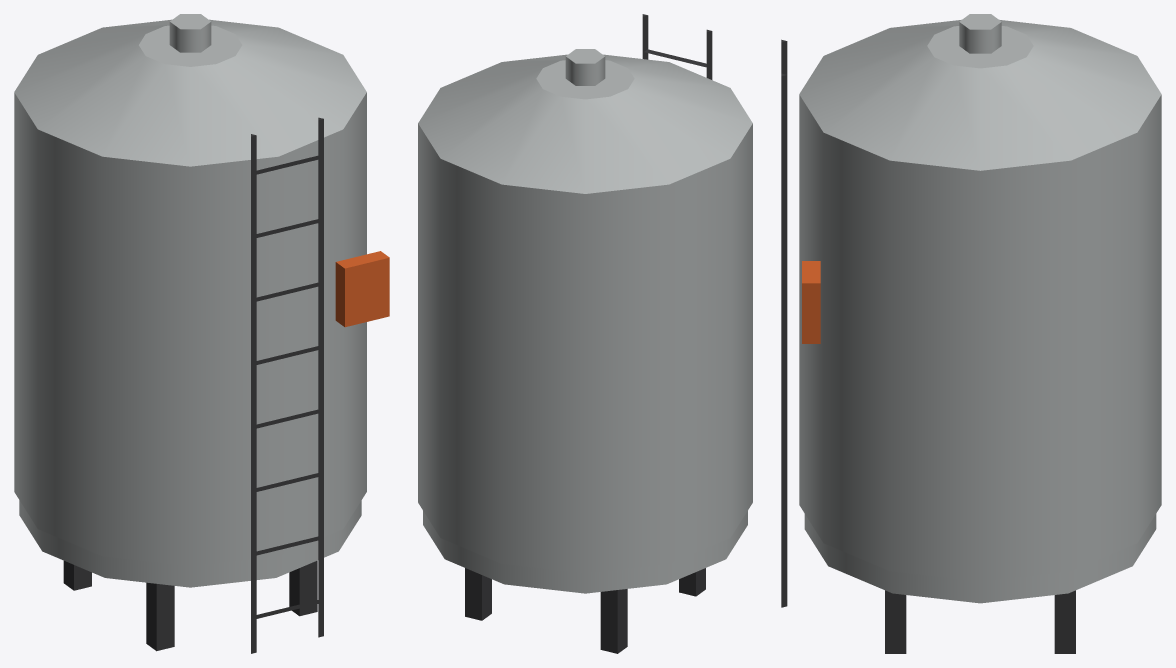
Rendered from storage_tank.glb.
The picture shows the model from 3 angles, left to right: view 1: azimuth 30°, elevation 25°; view 2: azimuth 150°, elevation 25°; view 3: azimuth 270°, elevation 25°; orthographic projection. The views are drawn at different scales.
Visible parts, largest first — view 1: storage_tank; view 2: storage_tank; view 3: storage_tank.
Boxes of the visible parts, x1,y1,x2,y2 form: storage_tank: (14, 14, 389, 653); storage_tank: (418, 14, 752, 653); storage_tank: (781, 14, 1161, 653).
Bounding box in the file's own units: 1.36 × 2.45 × 1.43.
Materials: 1 (1 with a texture image).
